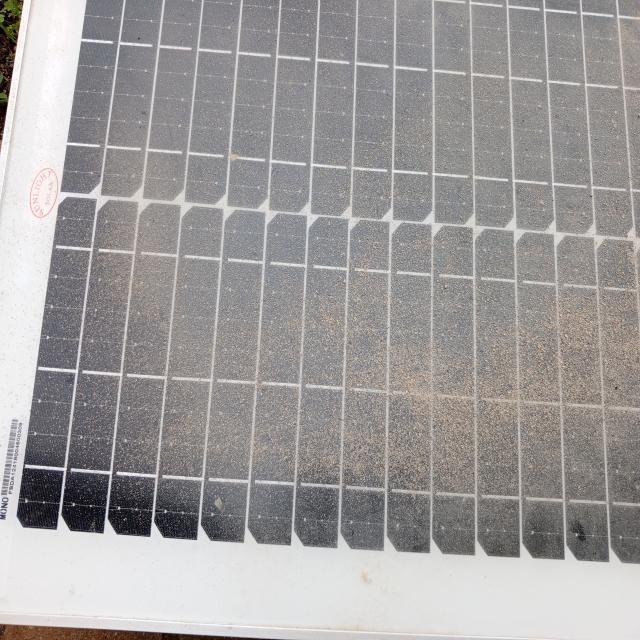Surface Contaminant: (87, 0, 626, 533)
